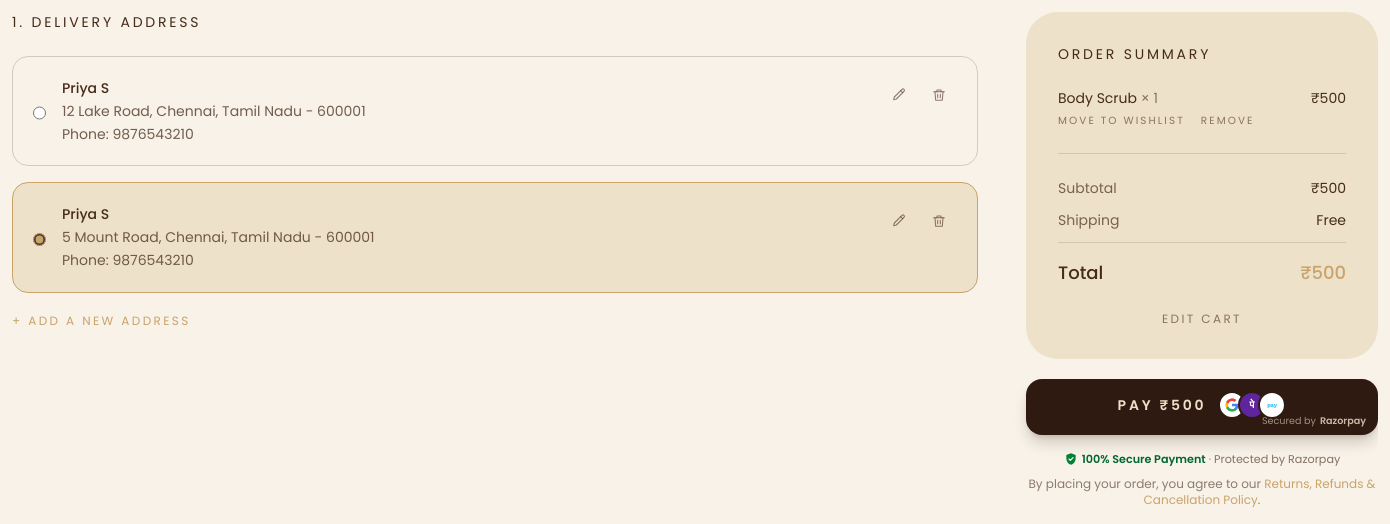
Test: CheckoutFlow › deleting the chosen address removes it and picks the one left
This screenshot has width=1390, height=524.
Click the button named "Delete address: Priya S, 5 Mount Road" at (939, 221), box [921, 203, 957, 239]
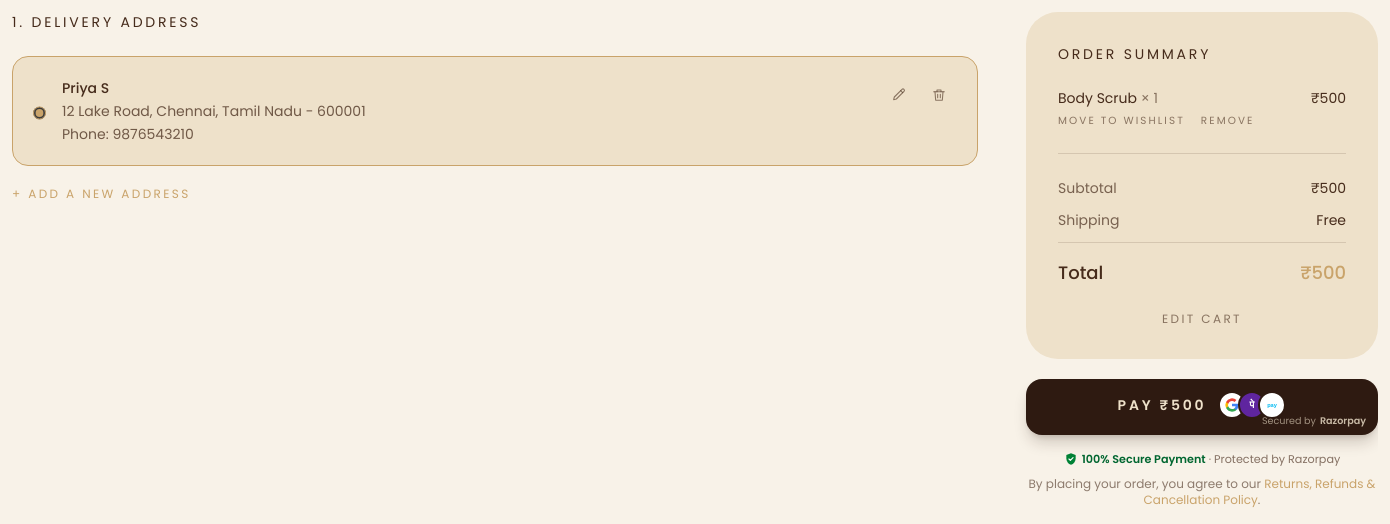
Result: the text "5 Mount Road" is gone
Result: the radio button labelled "12 Lake Road" is checked at [33, 81, 46, 145]
